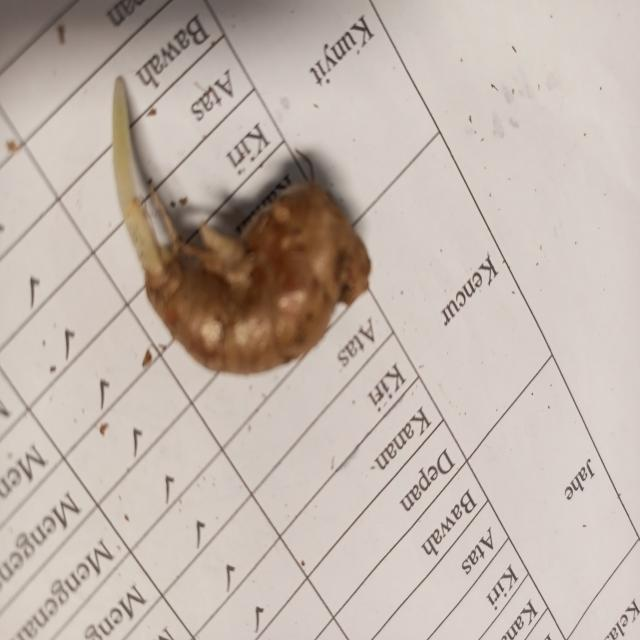ginger: (143, 180, 358, 351)
